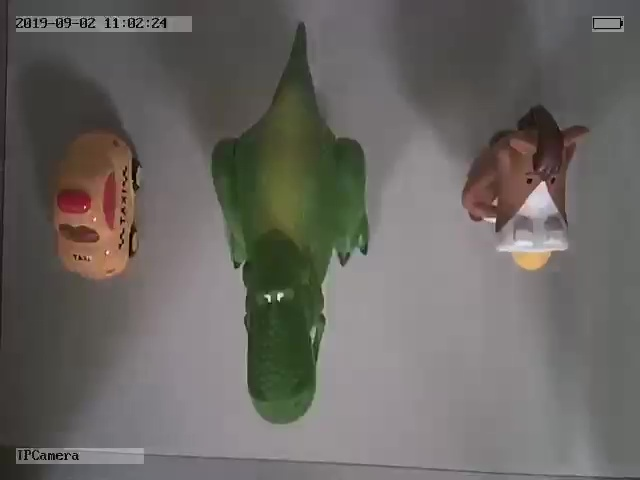car: (46, 125, 144, 280)
horse: (462, 103, 591, 275)
rex: (211, 23, 370, 427)
